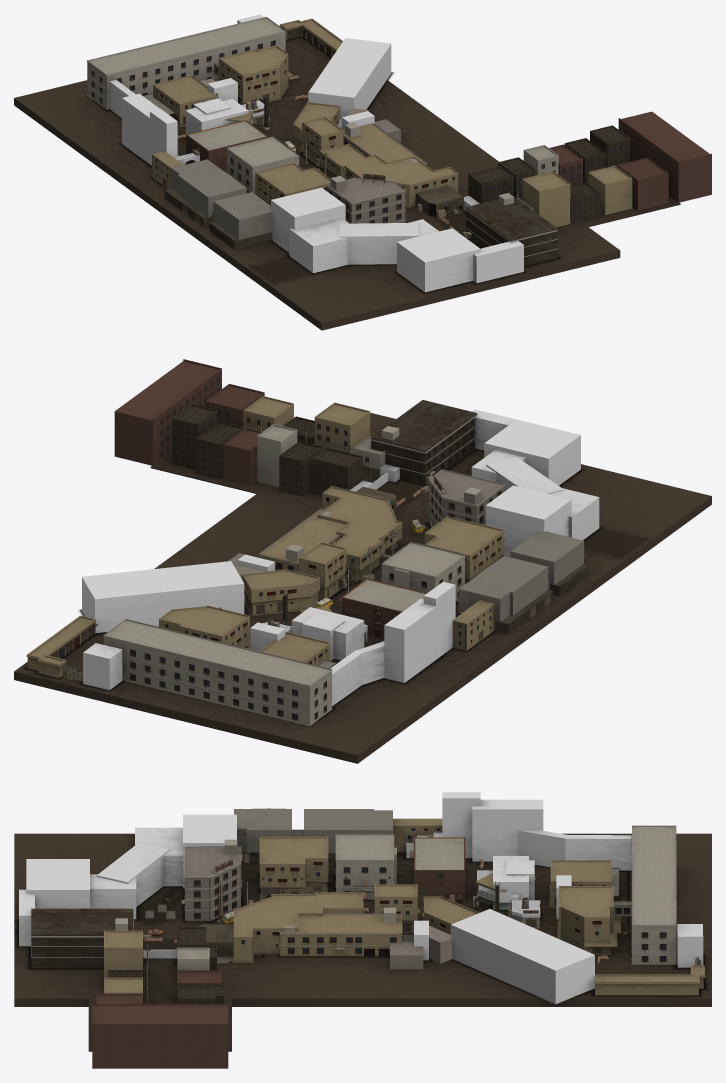
File: stage_city.glb
3 renders of one model, top to bottom at view 1: azimuth 30°, elevation 25°; view 2: azimuth 150°, elevation 25°; view 3: azimuth 270°, elevation 25°, orthographic. The views are drawn at different scales.
Parts seen in each view (by area): view 1: sand_ground, vis_street_east_peeling_painted_wall, concrete_building12, vis_street_east_whitewashed_brick, concrete_building33, concrete_building21, concrete_building24, vis_street_east_plaster_alley, concrete_building18, concrete_building9, concrete_building2, concrete_building8.001 (+29 smaller); view 2: sand_ground, concrete_building12, vis_street_east_peeling_painted_wall, concrete_building33, vis_street_east_whitewashed_brick, concrete_building24, concrete_building18, concrete_building2, concrete_building13, concrete_building21, concrete_roof1, vis_street_east_plaster_alley (+32 smaller); view 3: sand_ground, vis_street_east_peeling_painted_wall, concrete_building33, concrete_building12, concrete_building24, concrete_building18, concrete_building17, concrete_building3, vis_decal_merged_nouv, concrete_building13, concrete_building31, concrete_building9 (+35 smaller).
Boxes of the visible parts, x1,y1,x2,y2 form: sand_ground: [14, 37, 620, 330]; vis_street_east_peeling_painted_wall: [549, 111, 711, 210]; concrete_building12: [87, 18, 285, 108]; vis_street_east_whitewashed_brick: [468, 125, 629, 221]; concrete_building33: [308, 38, 391, 119]; concrete_building21: [397, 228, 480, 292]; concrete_building24: [465, 195, 557, 266]; vis_street_east_plaster_alley: [522, 165, 632, 227]; concrete_building18: [319, 144, 458, 207]; concrete_building9: [218, 45, 288, 103]; concrete_building2: [271, 187, 345, 252]; concrete_building8.001: [339, 223, 418, 264]; sand_ground: [14, 413, 711, 763]; concrete_building12: [103, 620, 331, 724]; vis_street_east_peeling_painted_wall: [114, 359, 264, 485]; concrete_building33: [82, 561, 244, 632]; vis_street_east_whitewashed_brick: [172, 404, 362, 496]; concrete_building24: [371, 400, 477, 484]; concrete_building18: [317, 486, 402, 581]; concrete_building2: [485, 485, 571, 556]; concrete_building13: [384, 598, 440, 682]; concrete_building21: [484, 419, 580, 485]; concrete_roof1: [458, 556, 548, 621]; vis_street_east_plaster_alley: [243, 396, 370, 453]; sand_ground: [14, 833, 711, 1006]; vis_street_east_peeling_painted_wall: [92, 970, 228, 1068]; concrete_building33: [450, 909, 594, 1003]; concrete_building12: [632, 827, 676, 962]; concrete_building24: [31, 908, 133, 968]; concrete_building18: [232, 892, 363, 963]; concrete_building17: [280, 915, 401, 956]; concrete_building3: [259, 836, 328, 900]; vis_decal_merged_nouv: [14, 837, 707, 1005]; concrete_building13: [472, 799, 543, 861]; concrete_building31: [185, 847, 240, 921]; concrete_building9: [557, 886, 613, 954].
Size of the model in its own units: 153 by 31.79 by 192.
54 materials, 51 textured.
